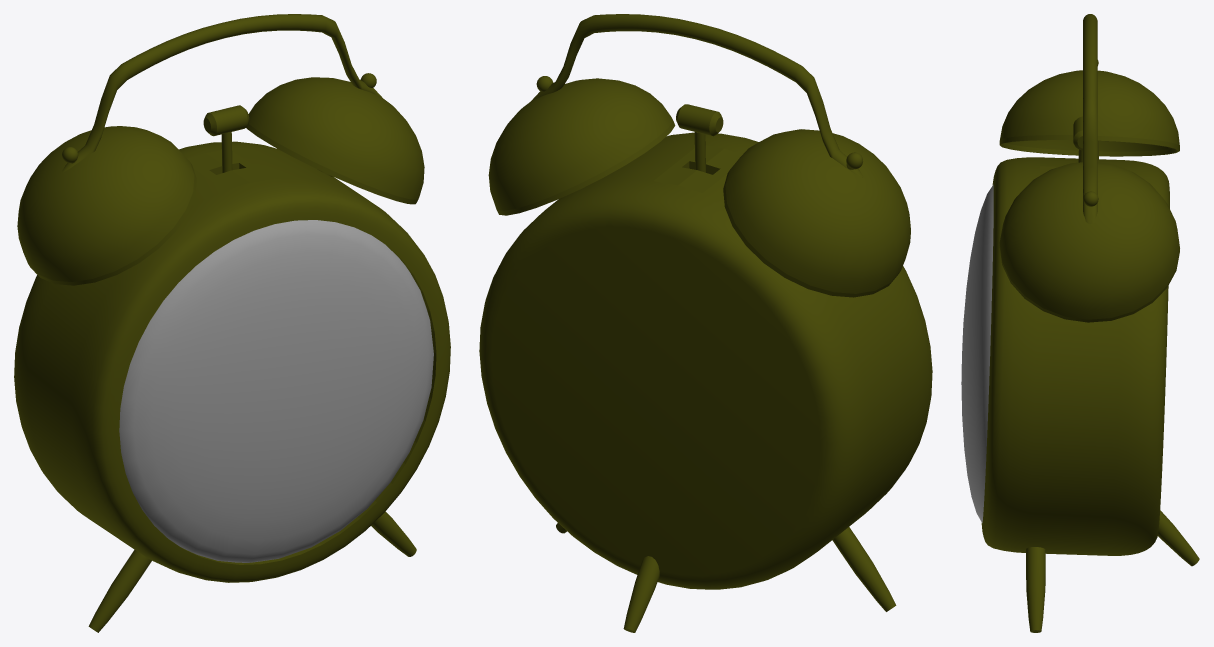
File: Alarm Clock.FBX
The picture shows the model from 3 angles, left to right: view 1: azimuth 30°, elevation 25°; view 2: azimuth 150°, elevation 25°; view 3: azimuth 270°, elevation 25°; orthographic projection. The views are drawn at different scales.
Visible parts, largest first — view 1: Sphere001, Cylinder001, OilTank001, OilTank002, Cylinder007, Cylinder005, Cylinder003, Cylinder004; view 2: Cylinder001, OilTank001, OilTank002, Cylinder007, Cylinder005, Cylinder003, Cylinder006; view 3: Cylinder001, OilTank002, OilTank001, Sphere001, Cylinder007, Cylinder004, Cylinder006, Cylinder003.
Boxes of the visible parts, x1=… form: Sphere001: x1=119, y1=220, x2=433, y2=562; Cylinder001: x1=14, y1=141, x2=450, y2=582; OilTank001: x1=17, y1=126, x2=196, y2=285; OilTank002: x1=246, y1=77, x2=424, y2=204; Cylinder007: x1=62, y1=14, x2=382, y2=172; Cylinder005: x1=88, y1=549, x2=151, y2=632; Cylinder003: x1=203, y1=105, x2=249, y2=172; Cylinder004: x1=371, y1=511, x2=416, y2=556; Cylinder001: x1=479, y1=132, x2=932, y2=589; OilTank001: x1=723, y1=129, x2=910, y2=297; OilTank002: x1=488, y1=78, x2=675, y2=215; Cylinder007: x1=530, y1=14, x2=863, y2=177; Cylinder005: x1=832, y1=527, x2=896, y2=611; Cylinder003: x1=676, y1=104, x2=723, y2=172; Cylinder006: x1=623, y1=556, x2=659, y2=632; Cylinder001: x1=981, y1=157, x2=1169, y2=555; OilTank002: x1=999, y1=162, x2=1179, y2=322; OilTank001: x1=999, y1=70, x2=1179, y2=156; Sphere001: x1=961, y1=184, x2=993, y2=522; Cylinder007: x1=1083, y1=14, x2=1097, y2=223; Cylinder004: x1=1026, y1=547, x2=1045, y2=632; Cylinder006: x1=1157, y1=510, x2=1199, y2=566; Cylinder003: x1=1073, y1=116, x2=1082, y2=162.
Size of the model in its own units: 41.71 by 57.52 by 23.99.
